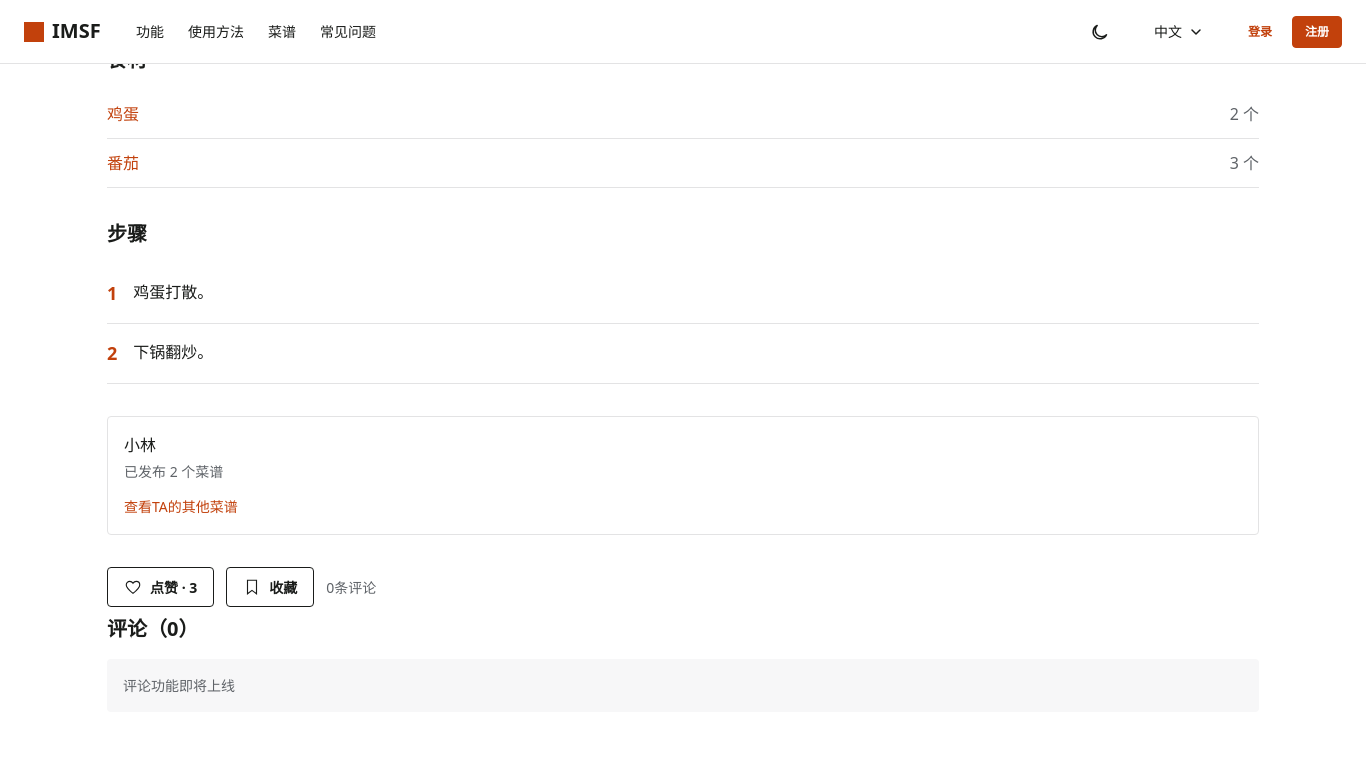
Test: blog article › like/save redirect to /login when logged out
The width and height of the screenshot is (1366, 768).
(page scrolled)
Click the button "点赞 · 3": (161, 587) [107,567,214,607]
(page scrolled)
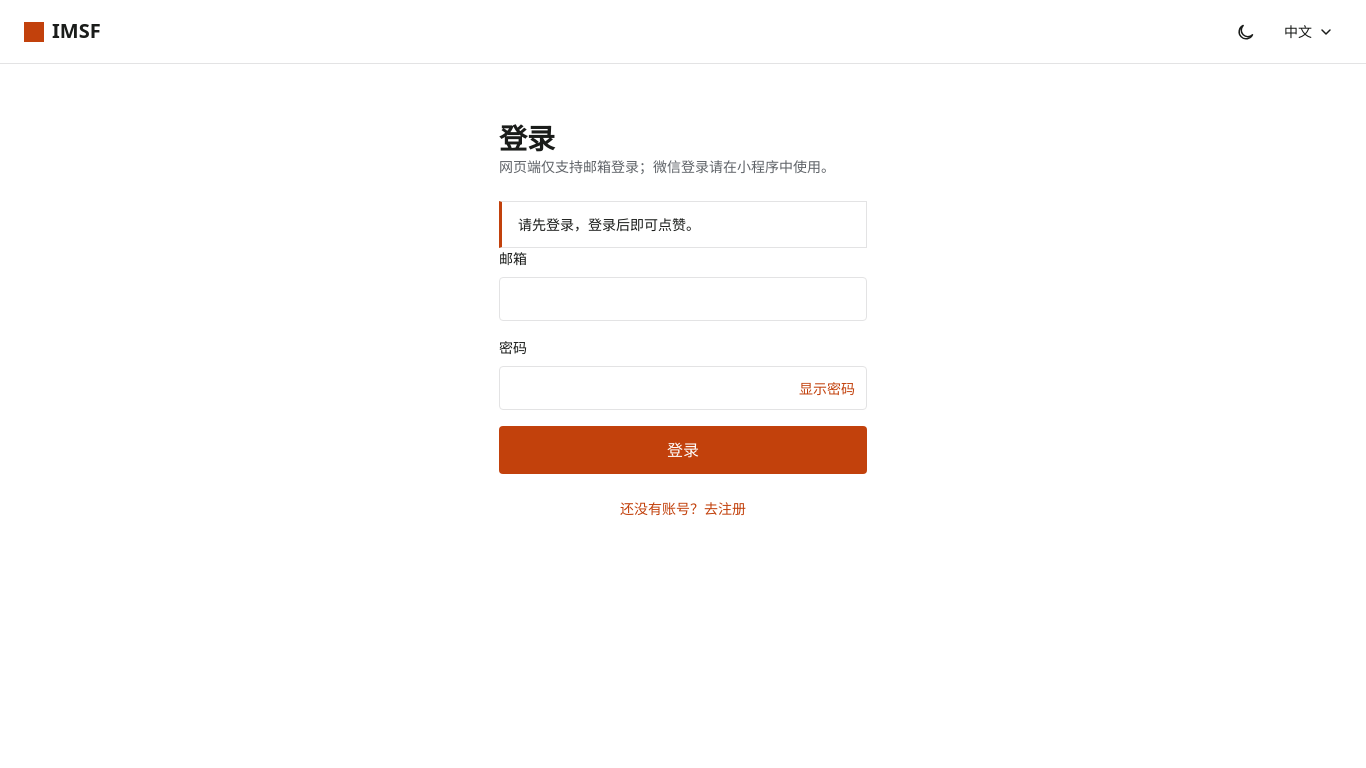
Check: the heading "登录" is shown, box [499,119,555,157]
